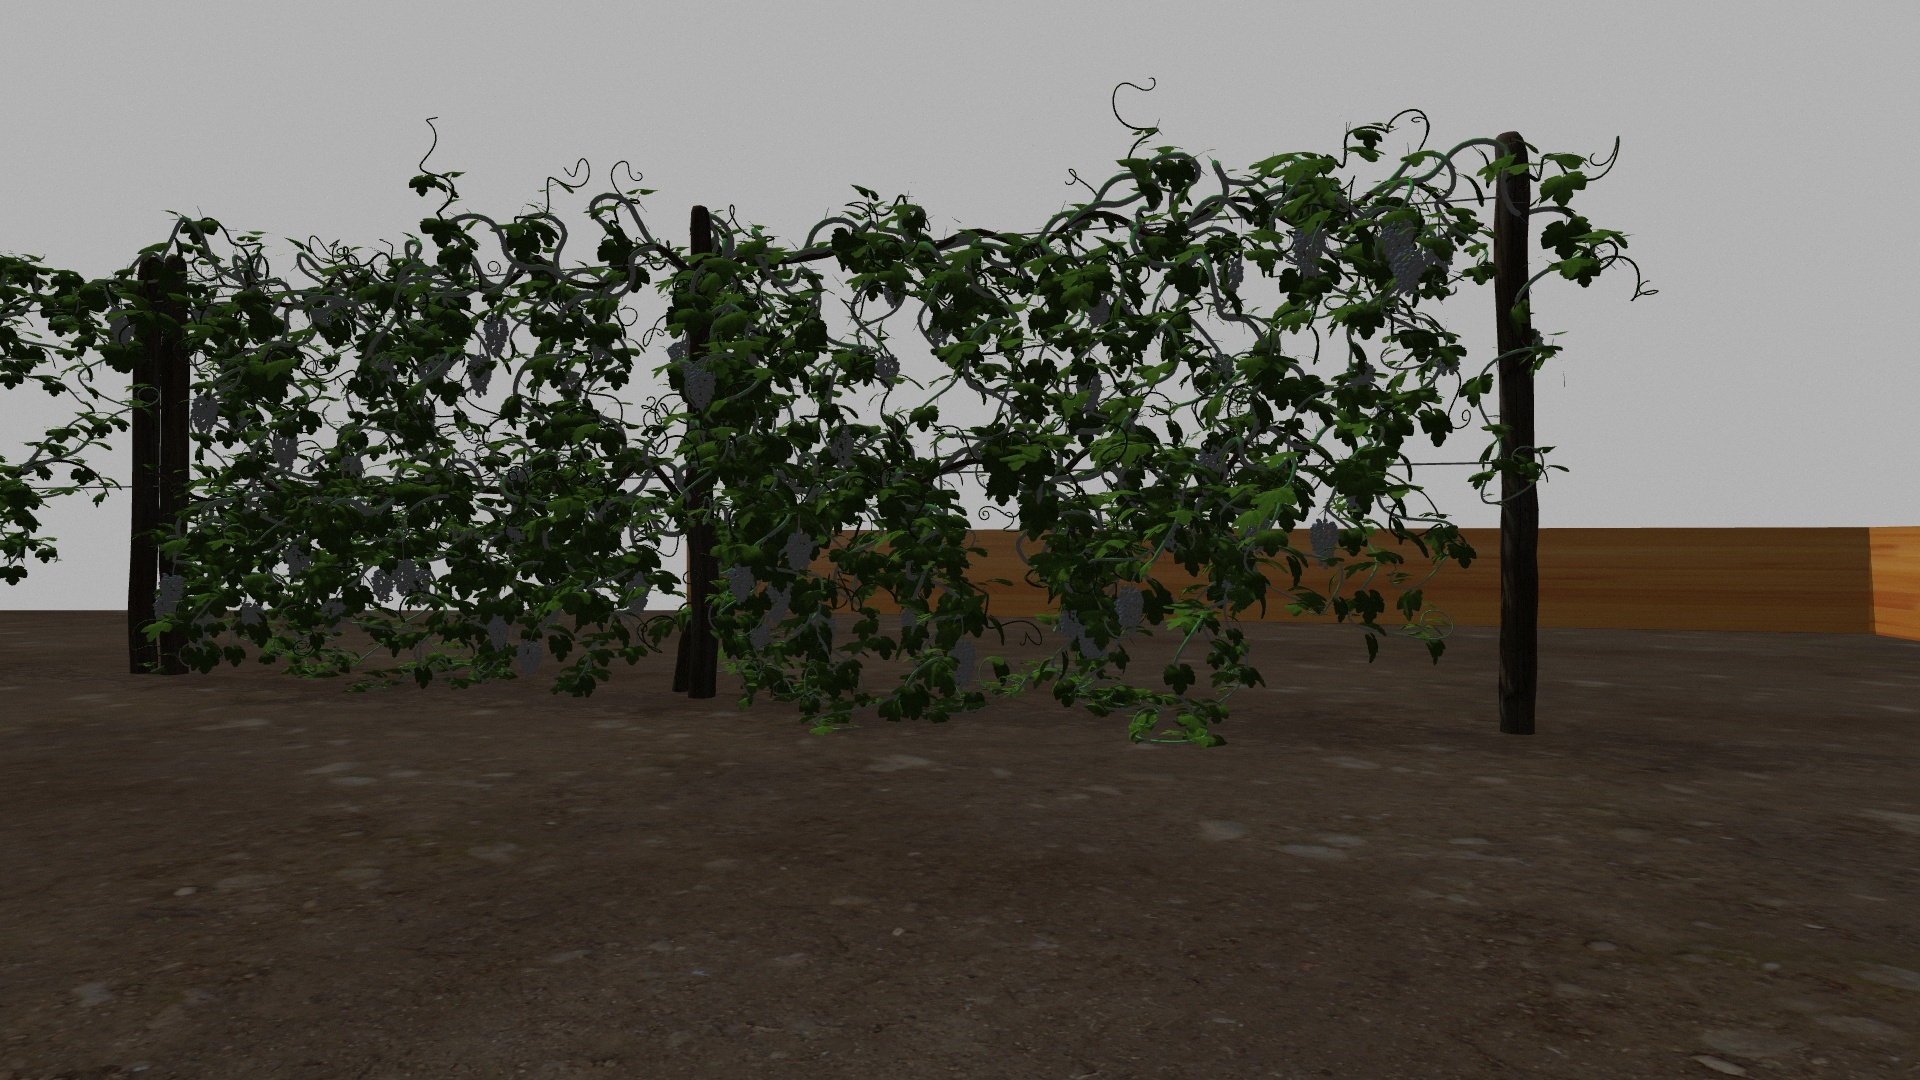grape: (1291, 225, 1327, 277), (684, 363, 717, 410), (1309, 518, 1340, 568), (1379, 218, 1415, 260), (1114, 584, 1145, 632), (625, 568, 651, 617), (481, 314, 510, 357), (785, 531, 814, 574), (727, 564, 756, 607), (1197, 446, 1229, 484), (951, 642, 978, 686), (516, 640, 545, 680), (766, 580, 793, 624), (191, 396, 220, 435), (1394, 249, 1422, 290), (1075, 373, 1104, 411), (484, 615, 512, 654), (107, 313, 138, 345), (468, 353, 492, 397), (282, 543, 310, 580), (272, 433, 299, 469), (829, 427, 856, 465), (1217, 258, 1245, 294), (392, 560, 418, 595), (158, 574, 187, 604), (371, 568, 396, 603), (1348, 361, 1377, 390), (876, 353, 902, 385), (1087, 295, 1112, 328), (1077, 625, 1100, 659), (1211, 351, 1236, 381), (1058, 608, 1081, 638), (320, 597, 347, 622), (237, 603, 265, 626), (748, 626, 773, 651), (666, 340, 690, 364), (899, 608, 918, 633), (153, 601, 175, 620)
